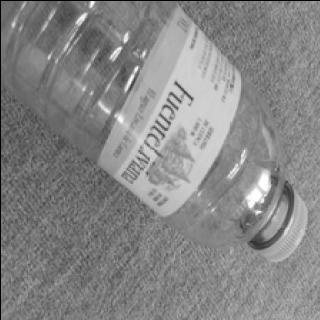plastic_bottles: (0, 0, 307, 261)
